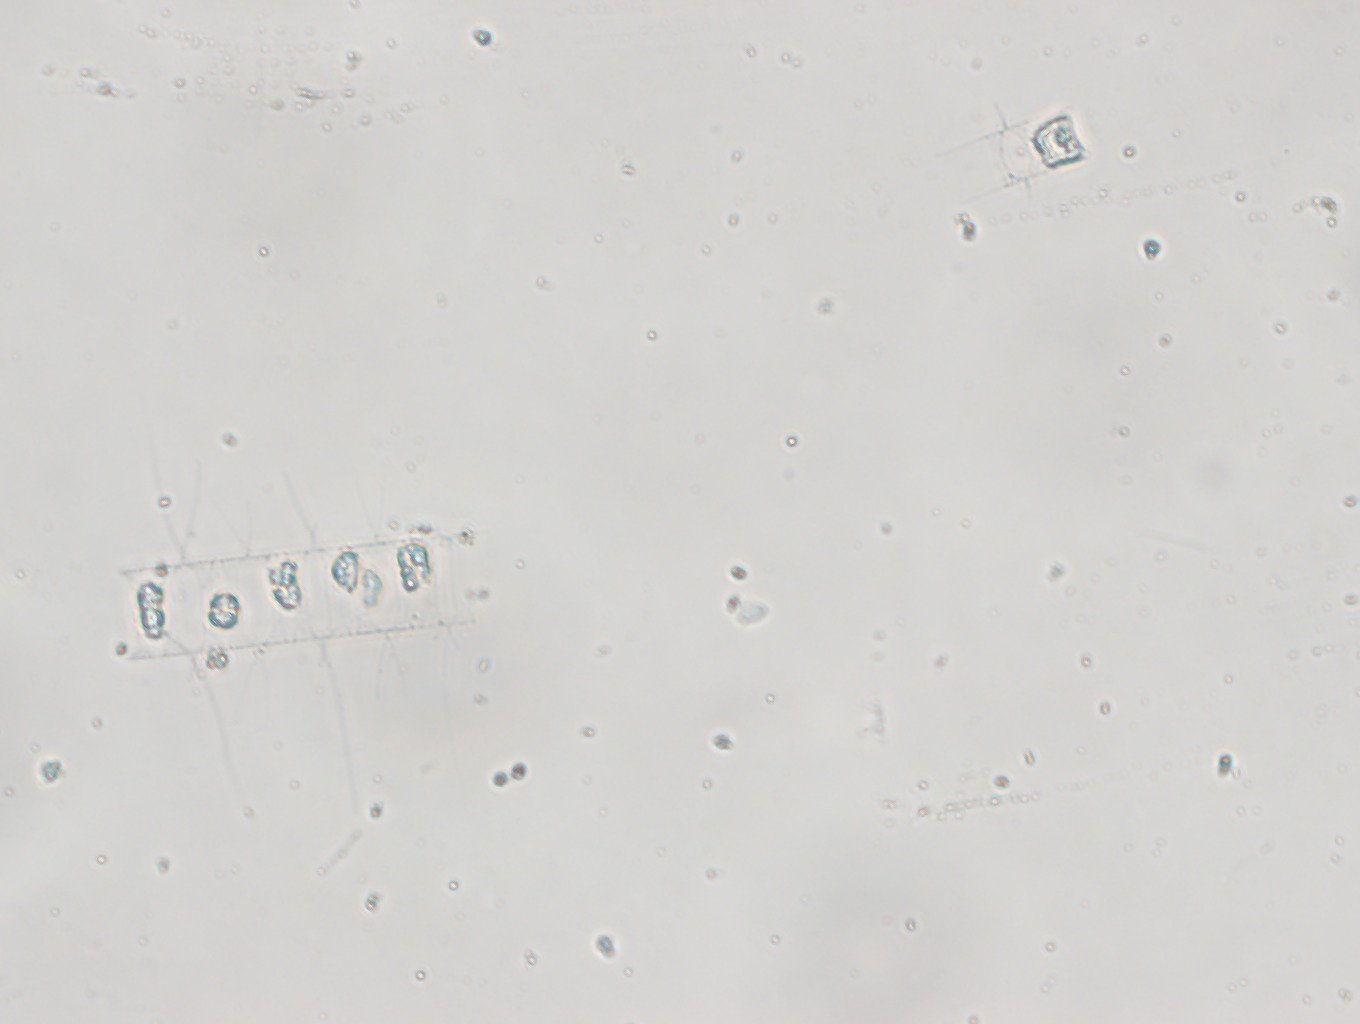chaetoceros: (113, 417, 506, 821), (927, 95, 1091, 208)
